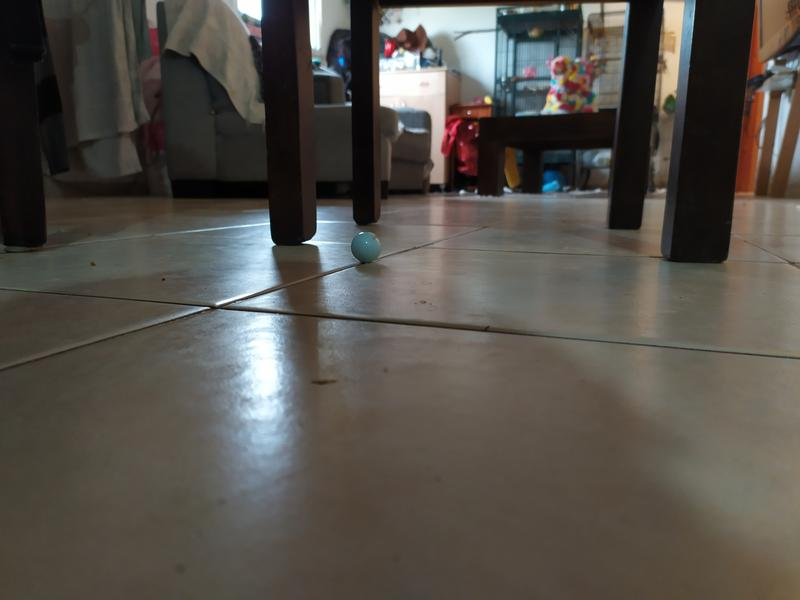Warning: (349, 229, 384, 265)
